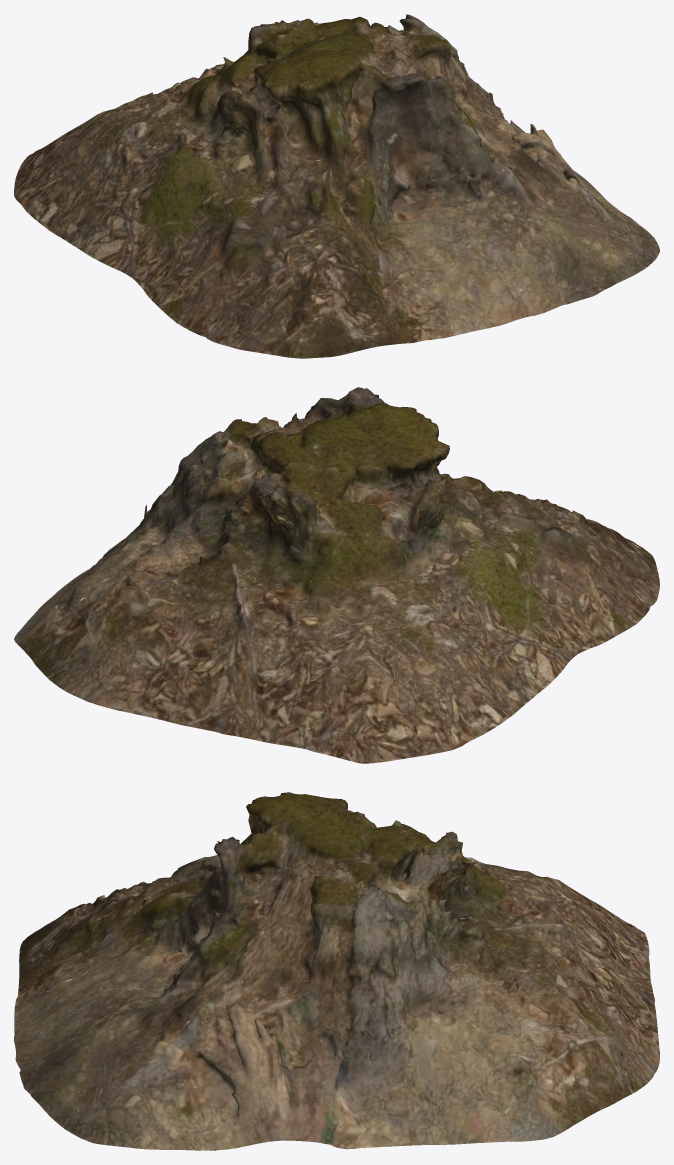
File: tree_stump_01.glb
3 renders of one model, top to bottom at view 1: azimuth 30°, elevation 25°; view 2: azimuth 150°, elevation 25°; view 3: azimuth 270°, elevation 25°, orthographic. The views are drawn at different scales.
Parts seen in each view (by area): view 1: tree_stump_01; view 2: tree_stump_01; view 3: tree_stump_01.
Boxes of the visible parts, box(x1,y1,x2,y2) form: tree_stump_01: box(14, 14, 659, 358); tree_stump_01: box(14, 387, 659, 763); tree_stump_01: box(14, 792, 659, 1150).
Bounding box in the file's own units: 1.43 × 0.5724 × 1.59.
Materials: 1 (1 with a texture image).
